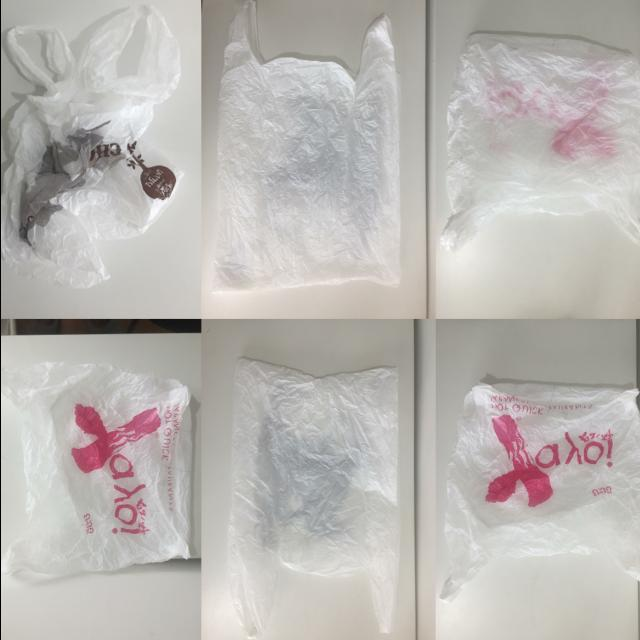plastik: (213, 0, 400, 291), (0, 6, 183, 288), (227, 358, 399, 639), (440, 383, 640, 602), (440, 33, 640, 251), (0, 363, 193, 575)
